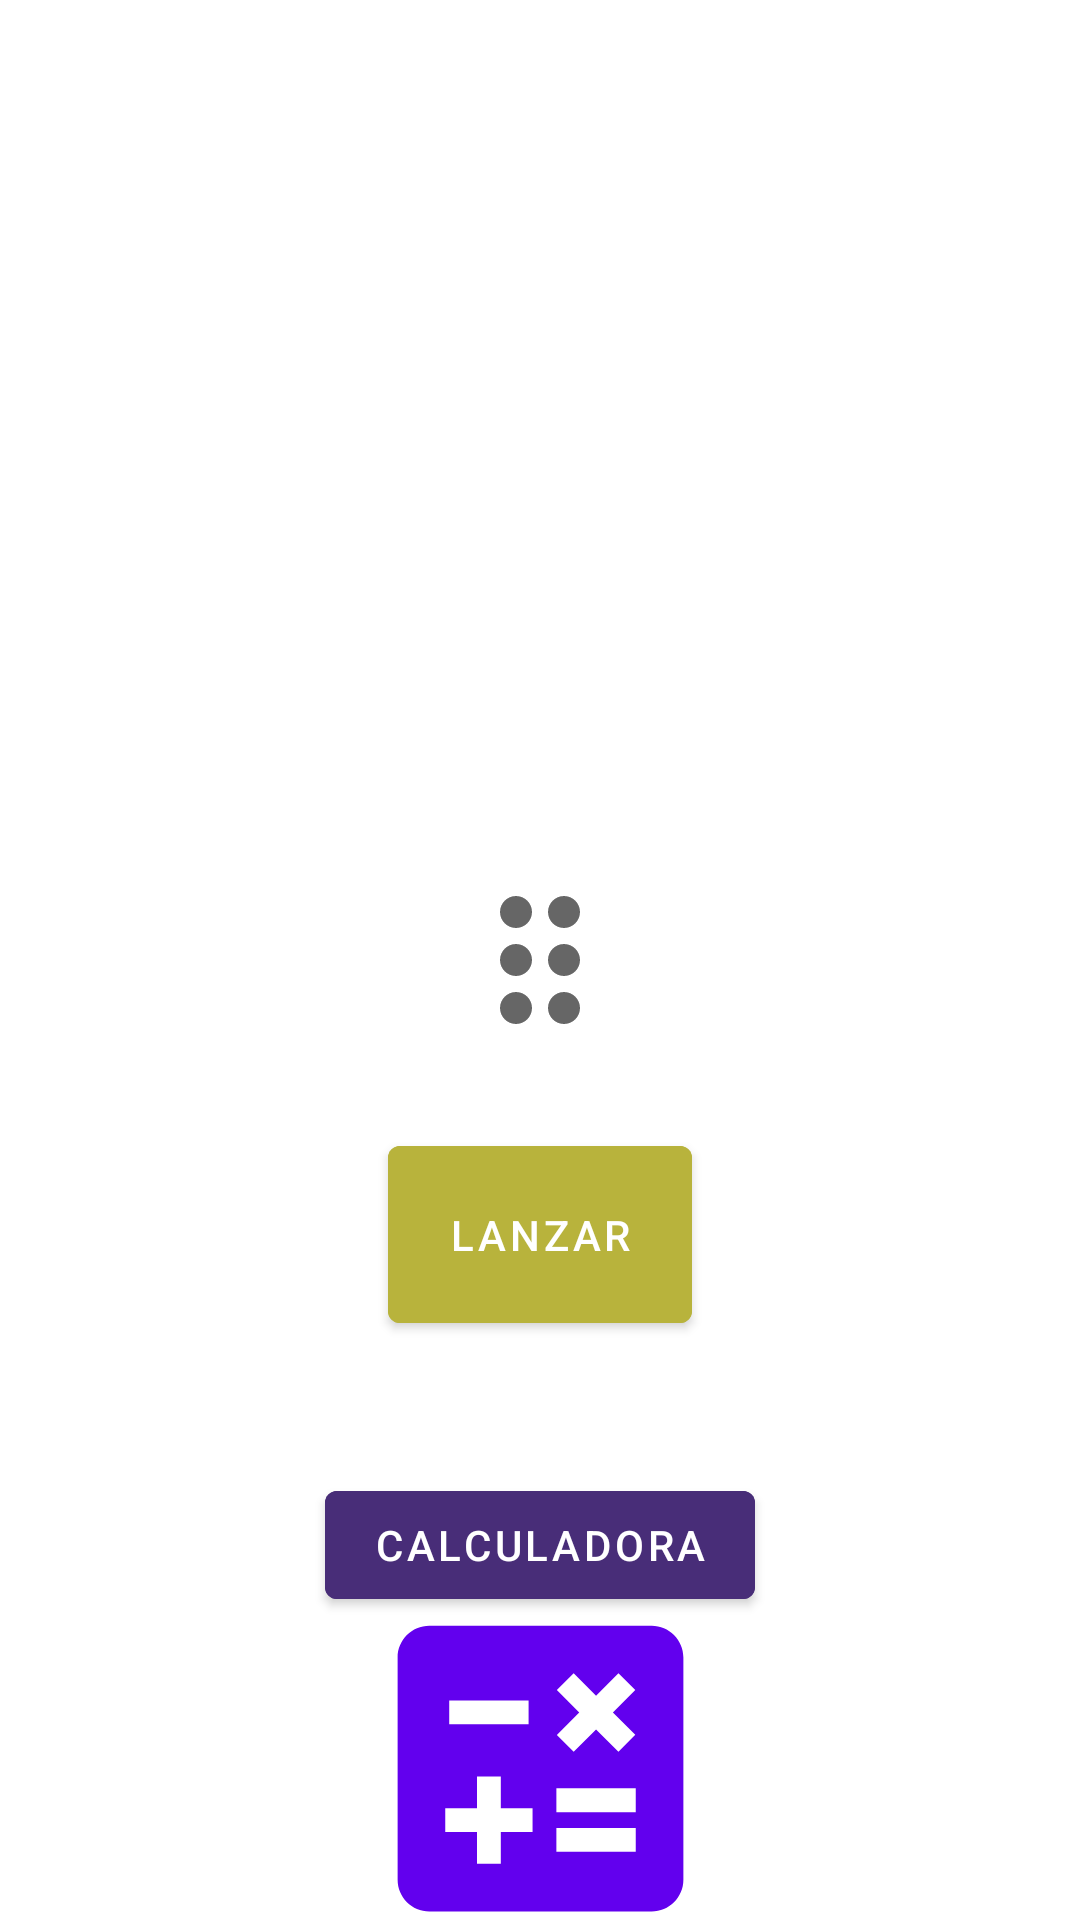

Where to tap for icons on this 1080 × 1920 app screen, as [x,y]:
drag indicator: [540,960]
